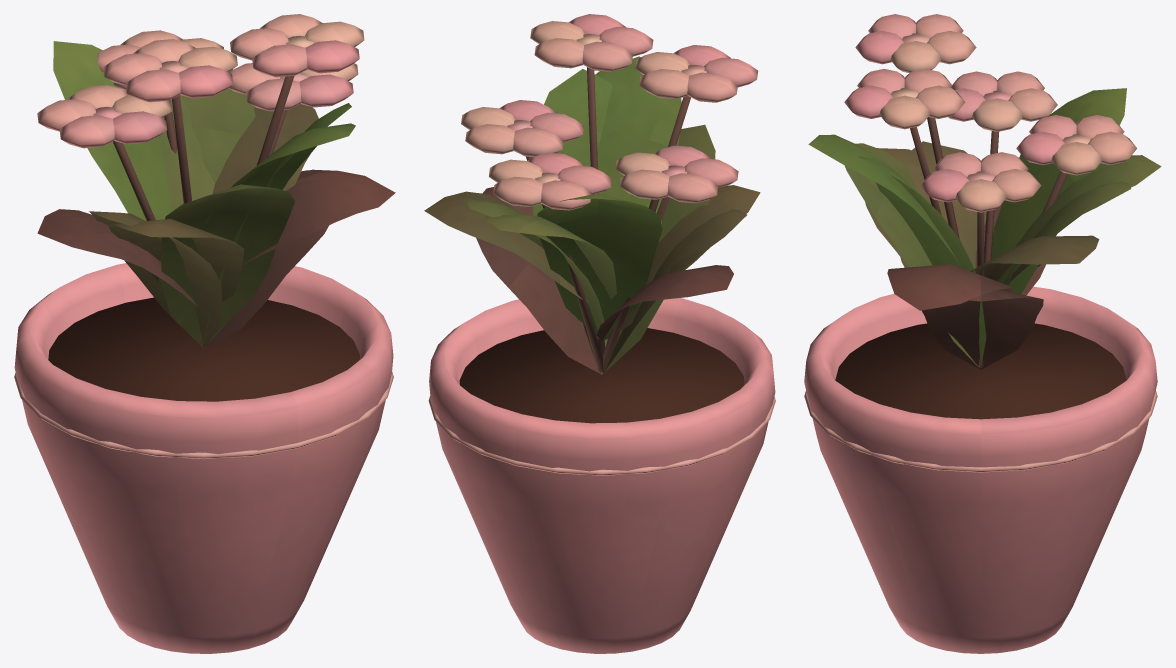
Rendered from WC_CAFE_Plant_Flowering_A.glb.
3 renders of one model, left to right at view 1: azimuth 30°, elevation 25°; view 2: azimuth 150°, elevation 25°; view 3: azimuth 270°, elevation 25°, orthographic. The views are drawn at different scales.
Parts seen in each view (by area): view 1: WC_CAFE_Plant_Flowering_A_DesignedMesh; view 2: WC_CAFE_Plant_Flowering_A_DesignedMesh; view 3: WC_CAFE_Plant_Flowering_A_DesignedMesh.
Boxes of the visible parts, box(x1,y1,x2,y2) form: WC_CAFE_Plant_Flowering_A_DesignedMesh: box(14, 14, 395, 653); WC_CAFE_Plant_Flowering_A_DesignedMesh: box(424, 14, 775, 653); WC_CAFE_Plant_Flowering_A_DesignedMesh: box(804, 14, 1161, 653).
Size of the model in its own units: 0.2245 by 0.3896 by 0.227.
6 materials, 4 textured.
